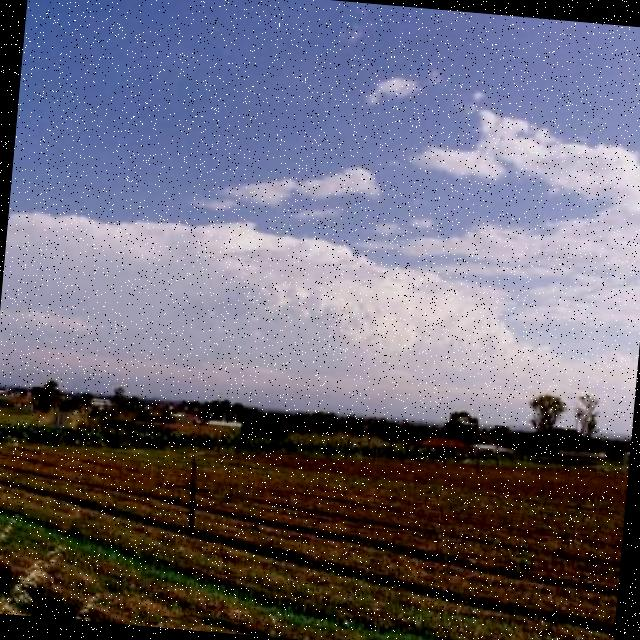St: (1, 201, 537, 407)
